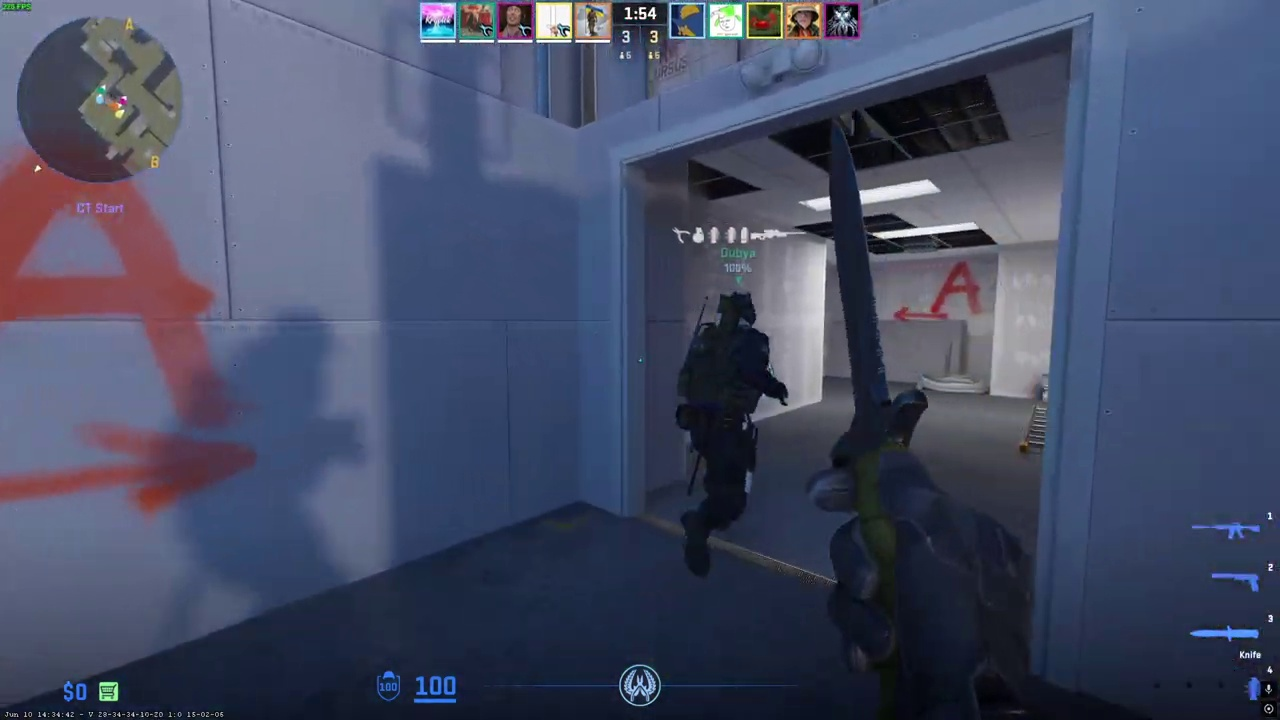CT: (675, 293, 777, 573)
